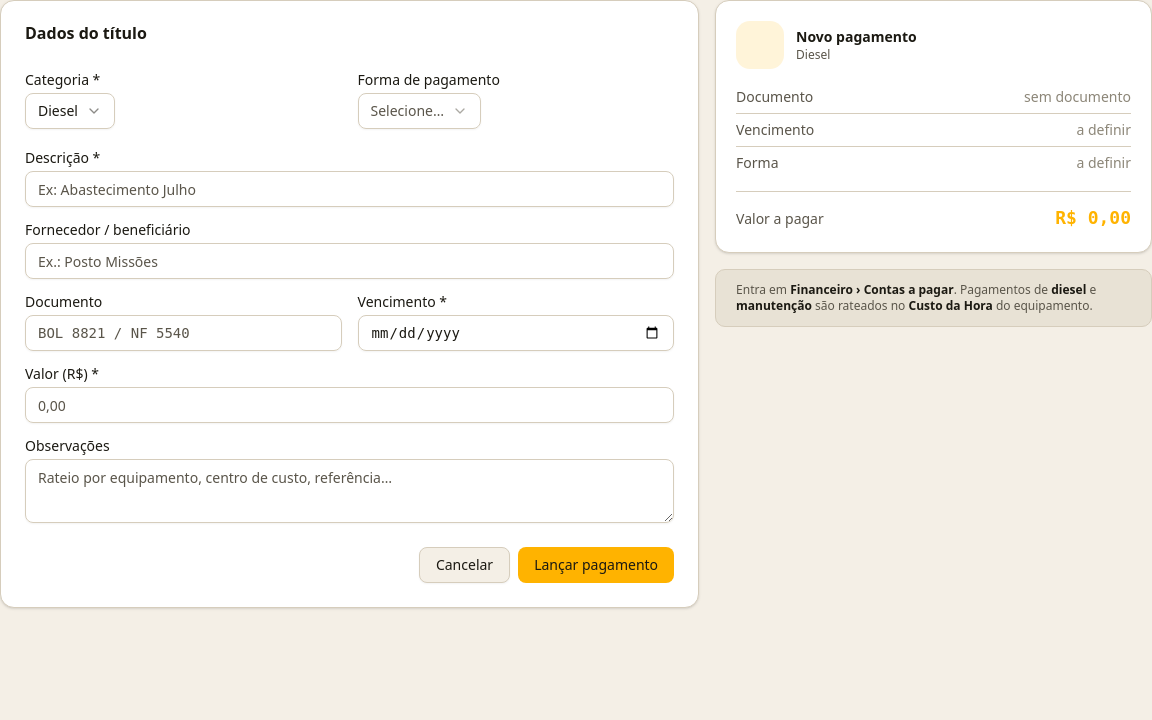
Test: ContaPagarForm › mostra o resumo ao vivo e atualiza ao digitar
The image size is (1152, 720).
Expected: the text "Novo pagamento" is shown, x1=796 y1=27 x2=917 y2=47
In the field labelled "Fornecedor / beneficiário": (350, 261) x1=25 y1=243 x2=674 y2=279, type "Posto Missões"
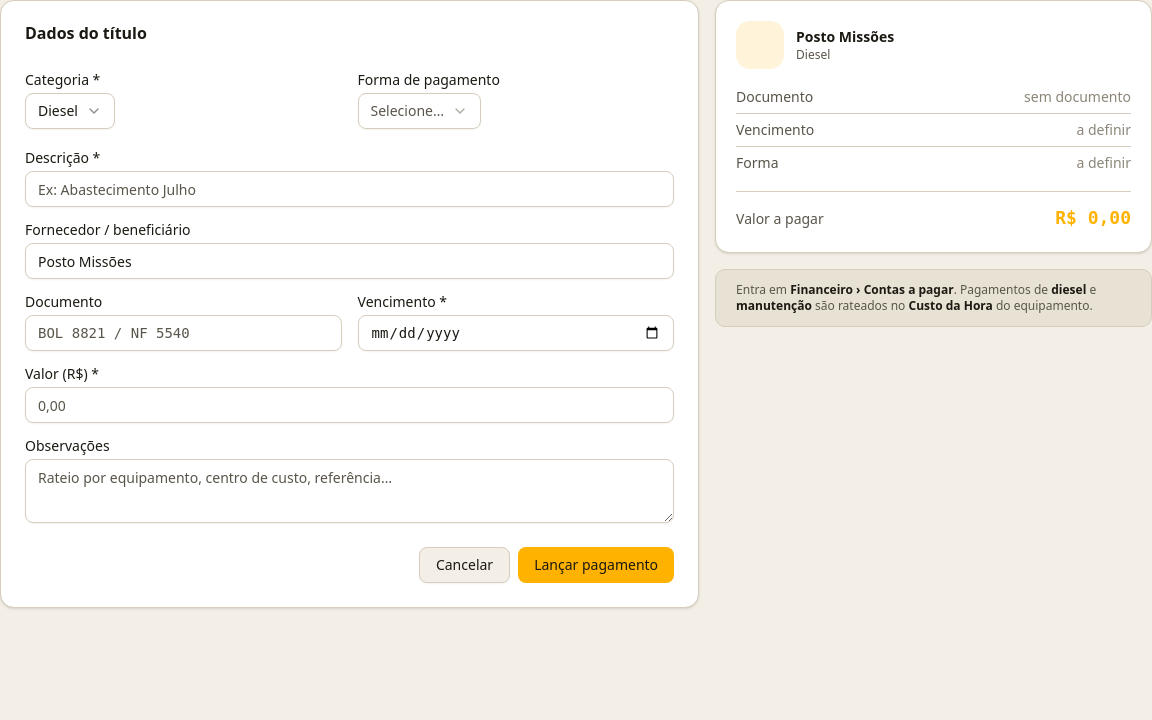
In the field labelled "Documento": (183, 333) x1=25 y1=315 x2=342 y2=351, type "NF 5540"
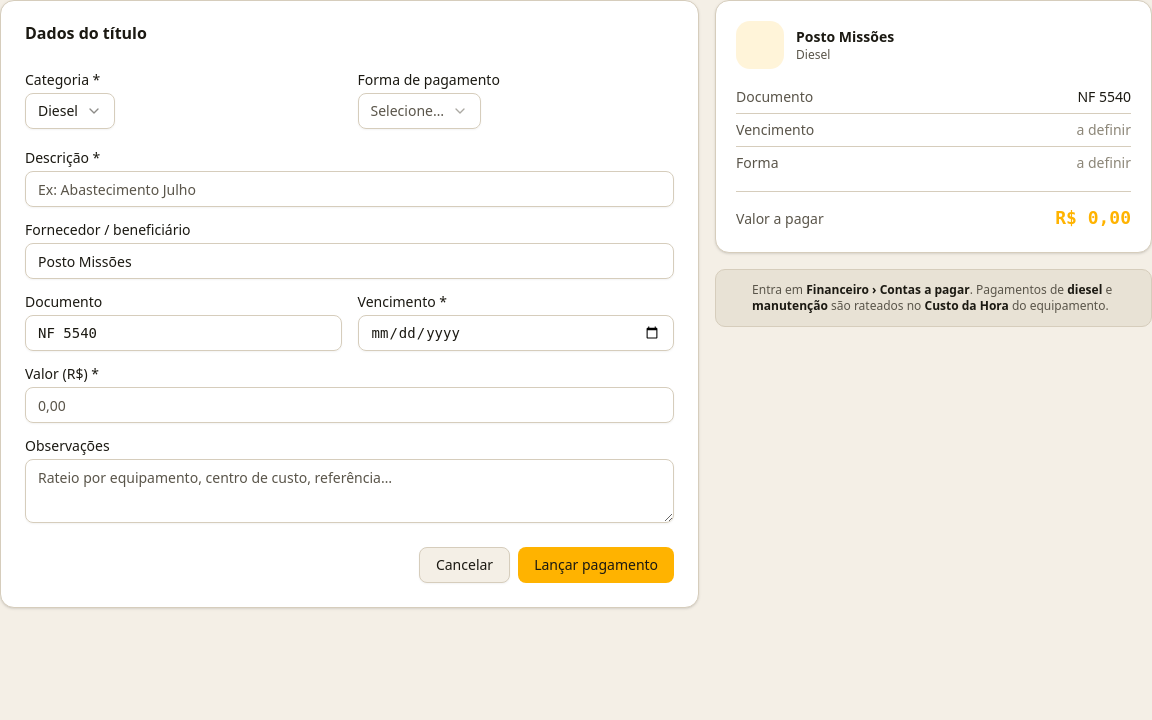
Result: the text "Posto Missões" is shown at x1=796 y1=27 x2=894 y2=47
Result: the text "NF 5540" is shown at x1=1077 y1=87 x2=1131 y2=107
